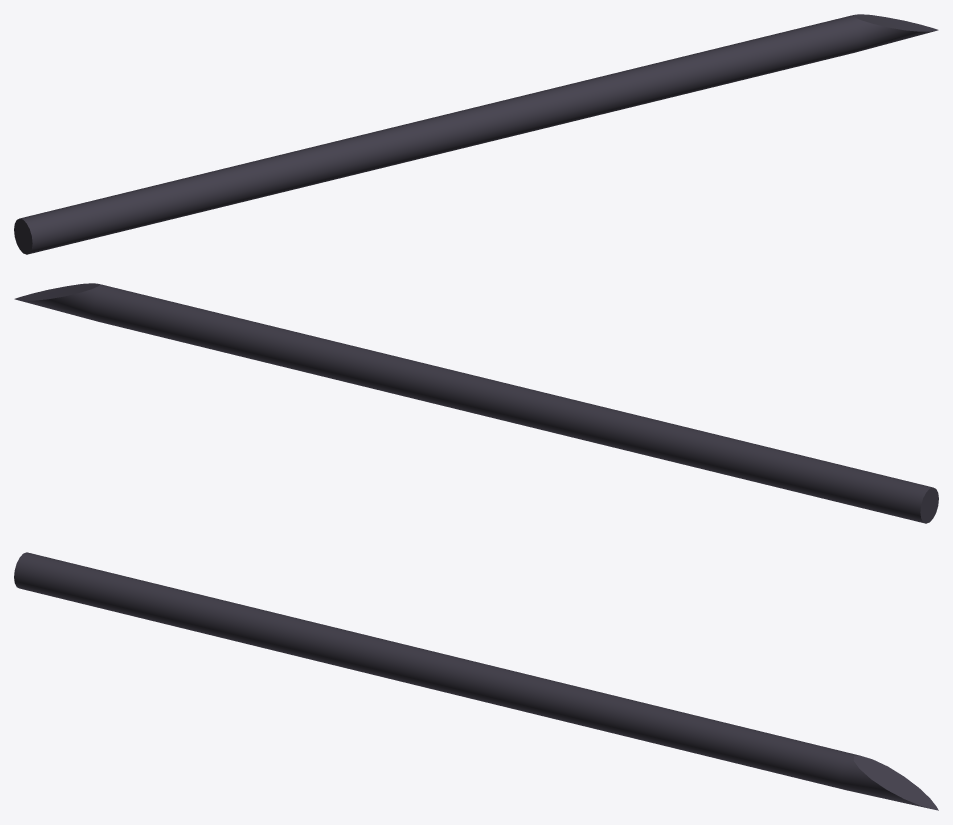
Rendered from PainAttack.fbx.
The picture shows the model from 3 angles, top to bottom: view 1: azimuth 30°, elevation 25°; view 2: azimuth 150°, elevation 25°; view 3: azimuth 330°, elevation 25°; orthographic projection.
Parts seen in each view (by area): view 1: SM_WEP_Eff_D55NJ1_A_01.001; view 2: SM_WEP_Eff_D55NJ1_A_01.001; view 3: SM_WEP_Eff_D55NJ1_A_01.001.
Boxes of the visible parts, <box> form: SM_WEP_Eff_D55NJ1_A_01.001: <box>14,14,938,254</box>; SM_WEP_Eff_D55NJ1_A_01.001: <box>14,283,938,523</box>; SM_WEP_Eff_D55NJ1_A_01.001: <box>14,552,938,810</box>.
Size of the model in its own units: 14793 by 520 by 520.
